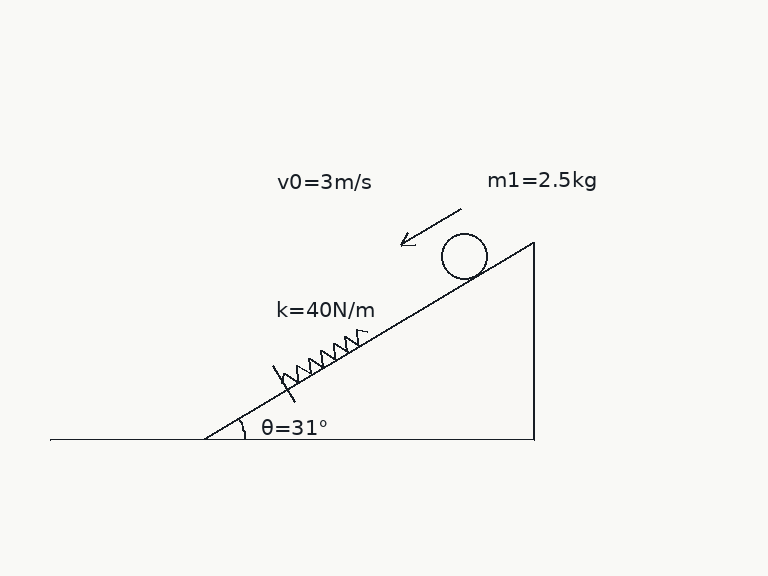ball: (439, 231, 489, 281)
ramp: (203, 240, 534, 441)
spring: (280, 327, 369, 384)
